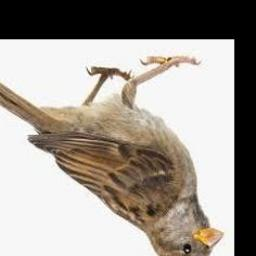Sparrow: (0, 57, 223, 256)
